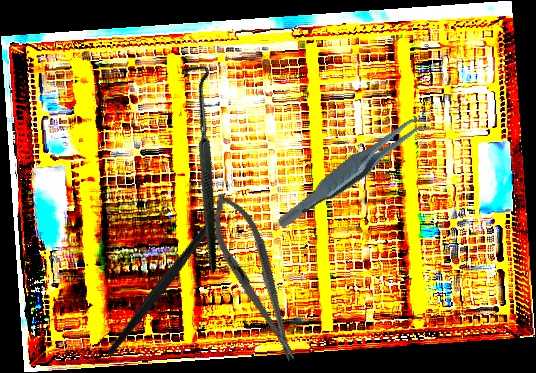Chopper: (66, 190, 266, 359)
Hook Surgical: (112, 59, 289, 274)
Needle Holder: (199, 186, 312, 369)
Tissue Forceps: (260, 111, 448, 231)
